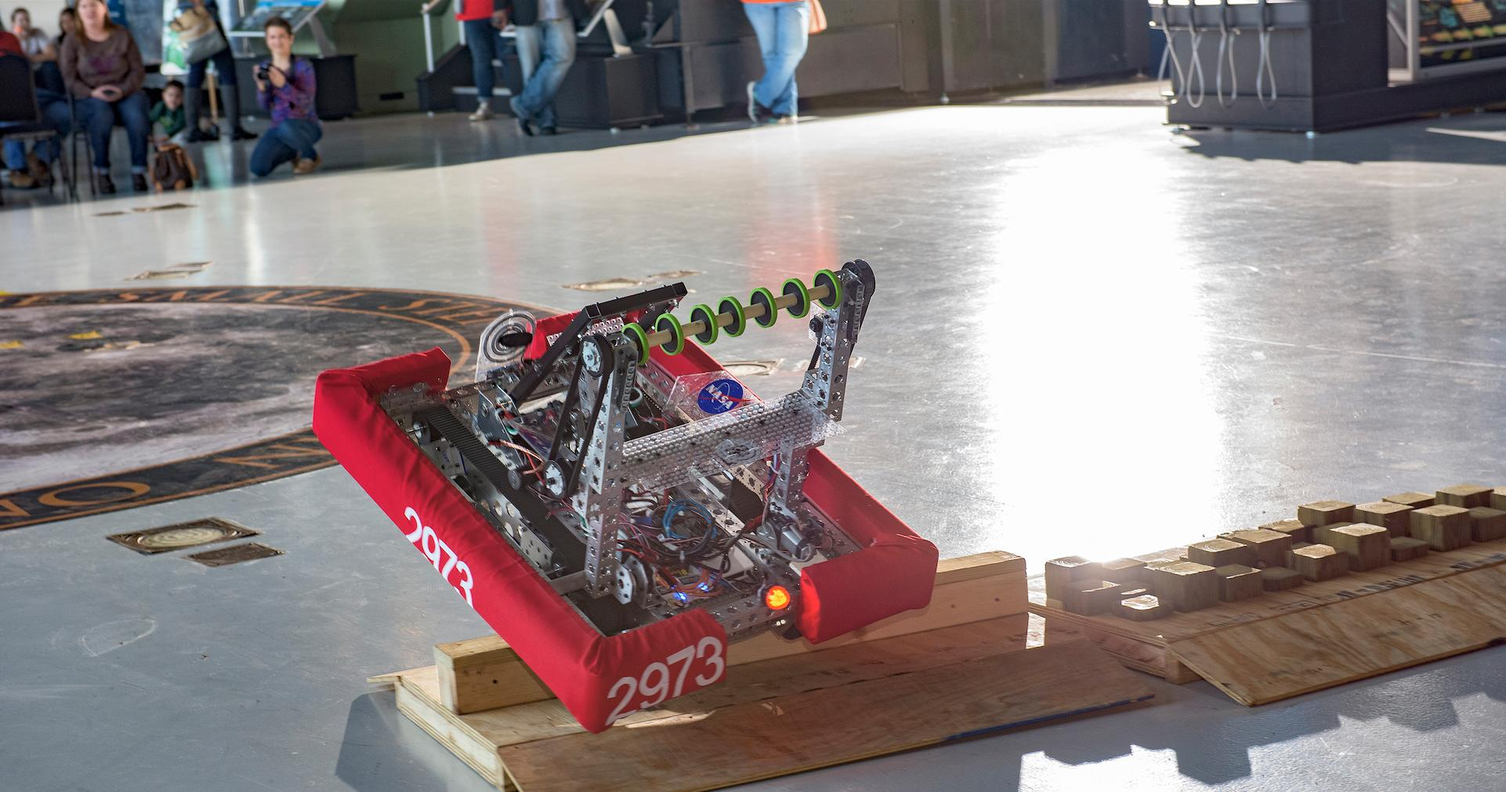robot: (304, 253, 948, 744)
